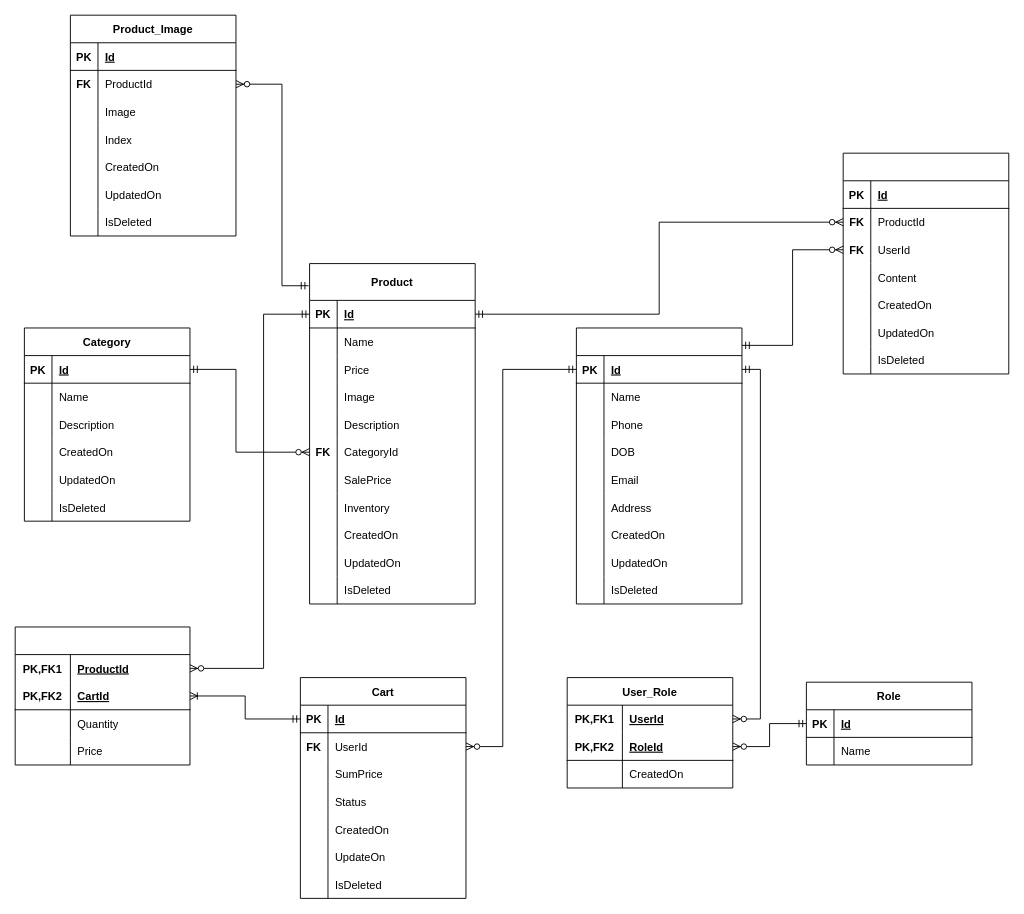
This 1024x914 diagram has some shape labels left out. The box of each missing label's shape, as (x1, y1, x2, y2) in pixels:
Cart_Item: (14, 626, 190, 765)
Comment: (842, 152, 1009, 374)
User: (575, 327, 742, 604)
